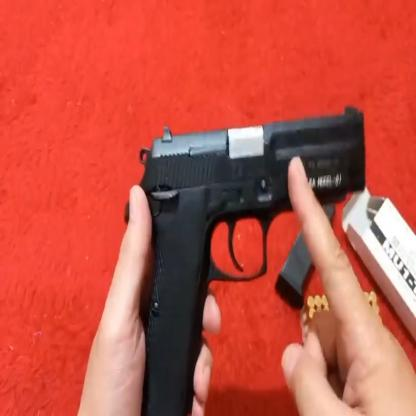handgun: (137, 99, 374, 416)
